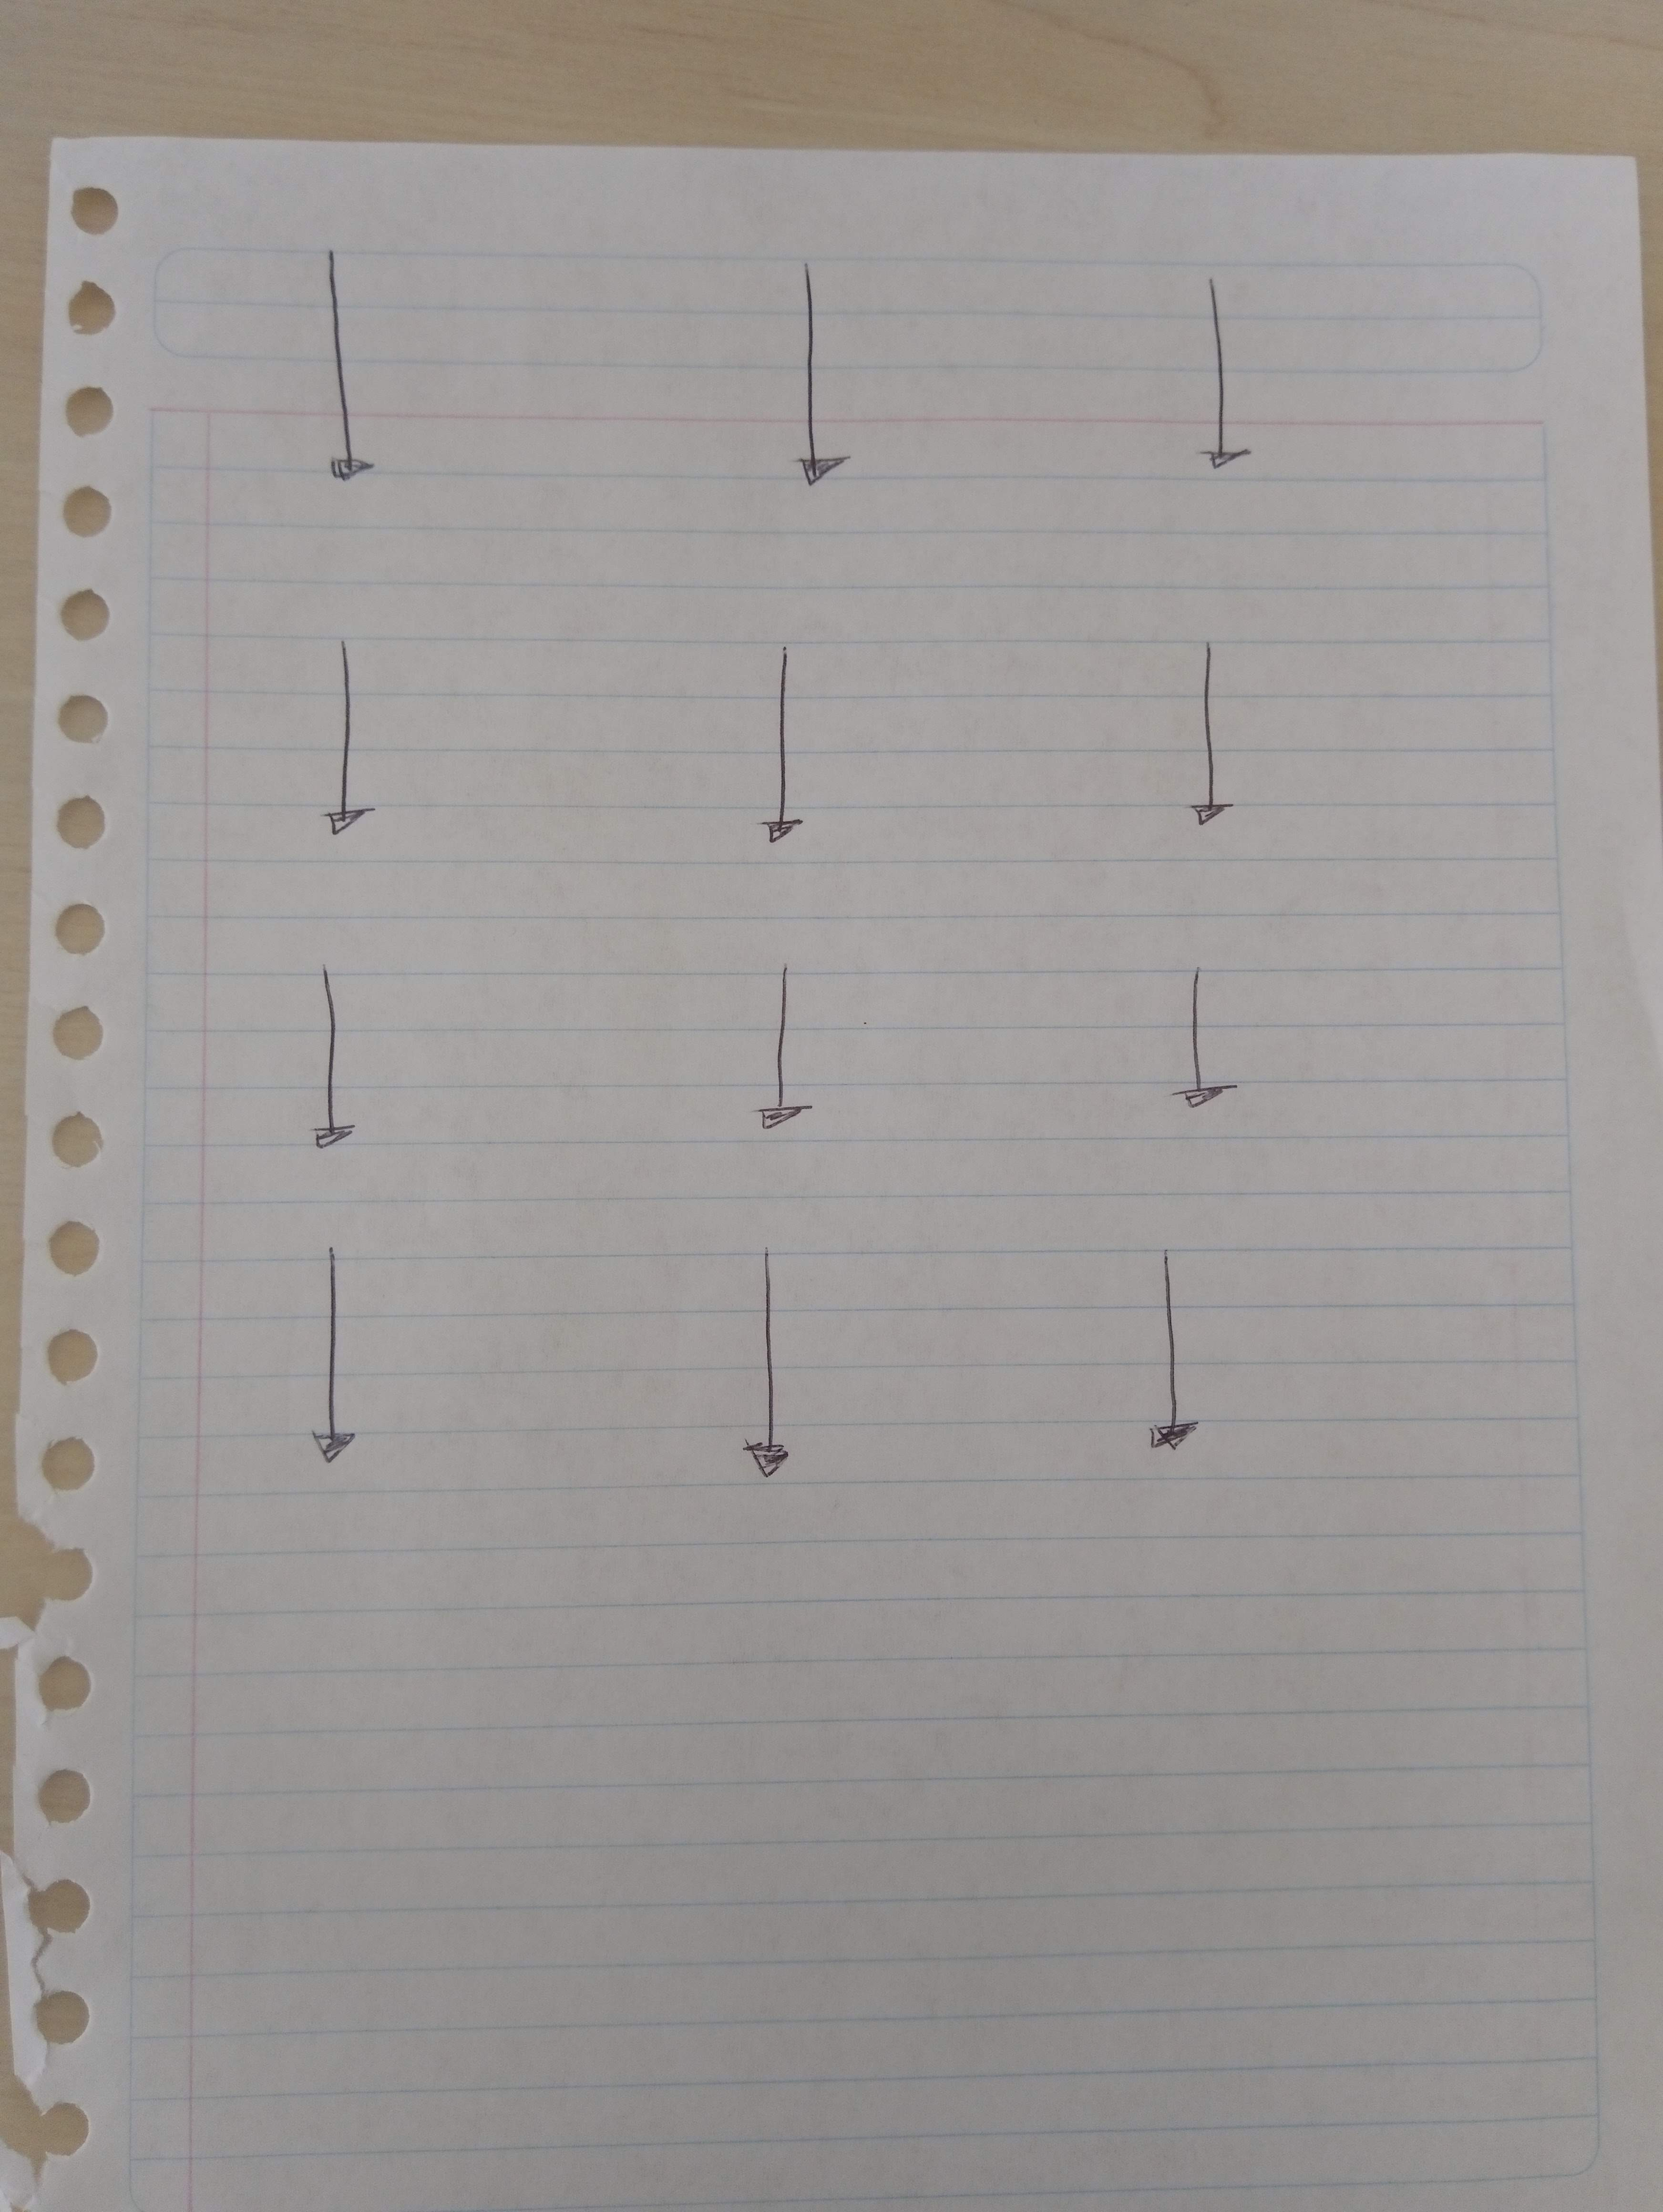arrow_line_down: (311, 625, 409, 854), (288, 258, 384, 487), (1128, 1248, 1228, 1468), (791, 241, 865, 505), (744, 632, 825, 861), (1198, 271, 1275, 508), (292, 965, 384, 1158), (728, 1245, 795, 1498), (735, 955, 825, 1135), (1169, 644, 1246, 845), (1162, 978, 1261, 1124), (304, 1257, 362, 1480)
